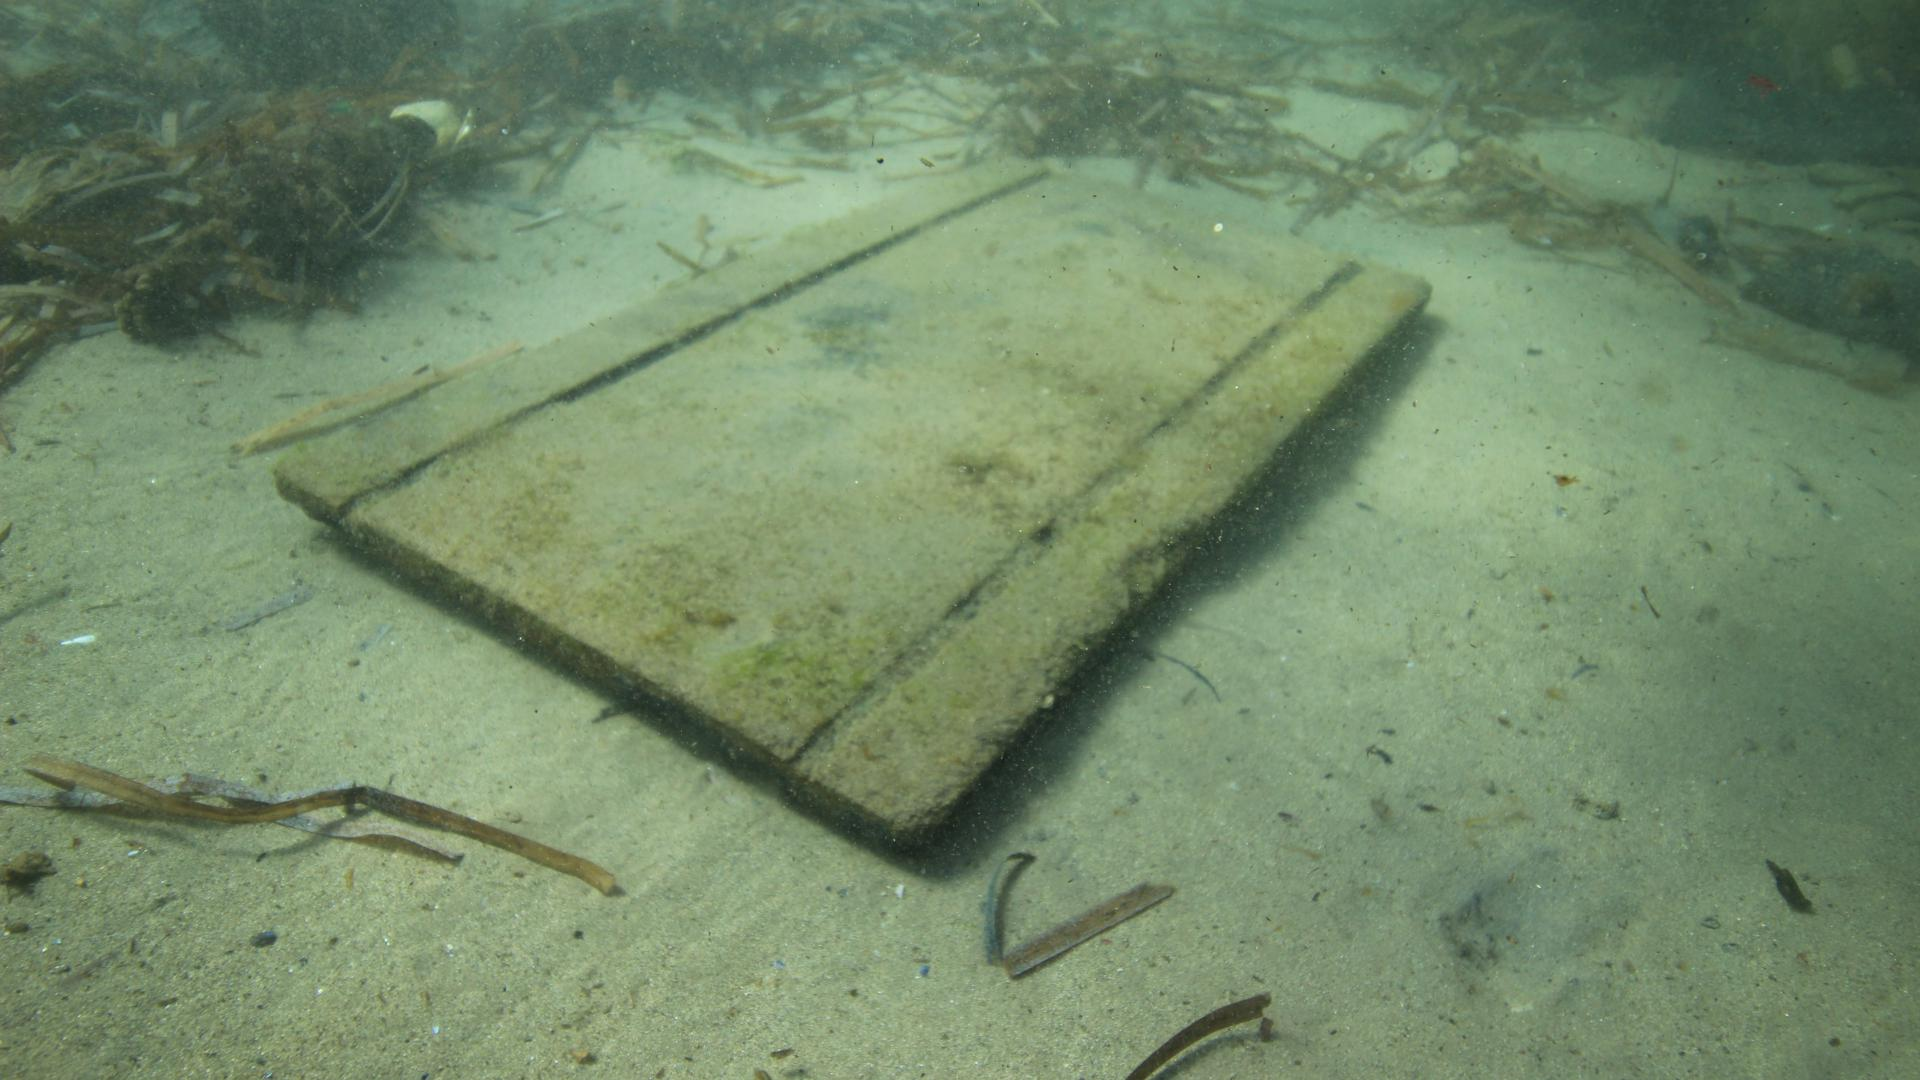wood: (270, 153, 1429, 855)
